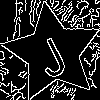J: (27, 27, 72, 81)
